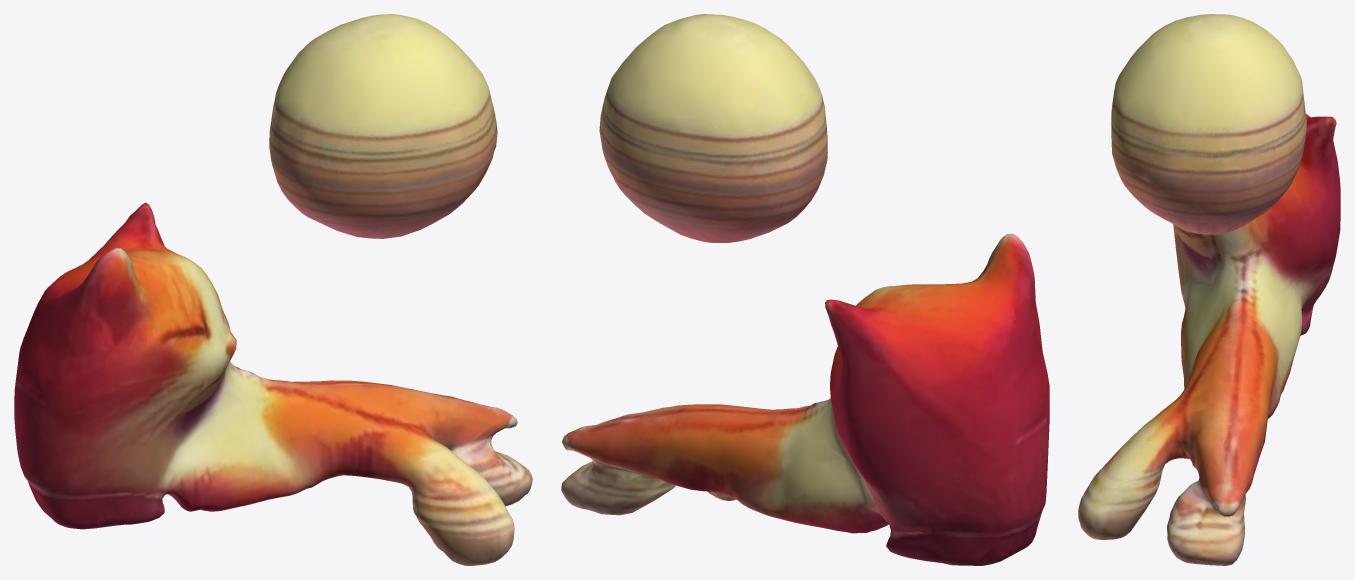
File: orange-cat.glb
3 views of the same model, side by side, from view 1: azimuth 30°, elevation 25°; view 2: azimuth 150°, elevation 25°; view 3: azimuth 270°, elevation 25° (orthographic). The views are drawn at different scales.
Visible parts, largest first — view 1: mesh; view 2: mesh; view 3: mesh.
Part boxes in pixels (left/top/right/bottom): mesh: left=14, top=14, right=532, bottom=565; mesh: left=561, top=14, right=1049, bottom=565; mesh: left=1078, top=14, right=1340, bottom=565.
Size of the model in its own units: 1.47 by 1.49 by 0.7219.
1 material, 1 textured.
